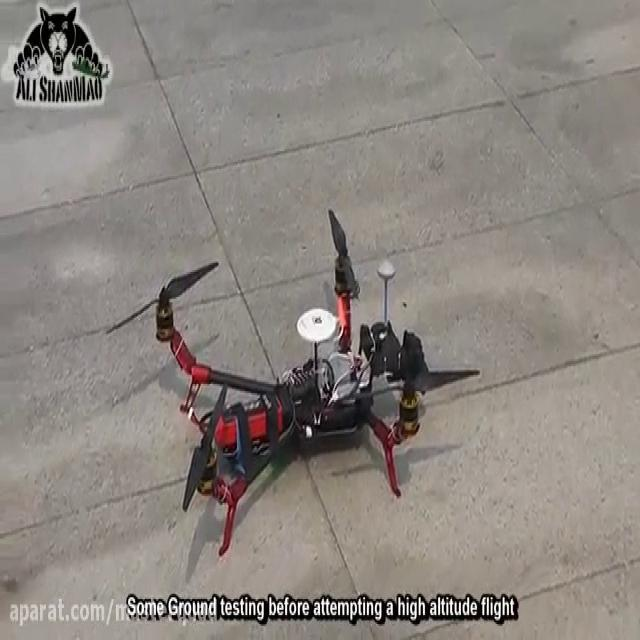drone: (102, 201, 484, 563)
